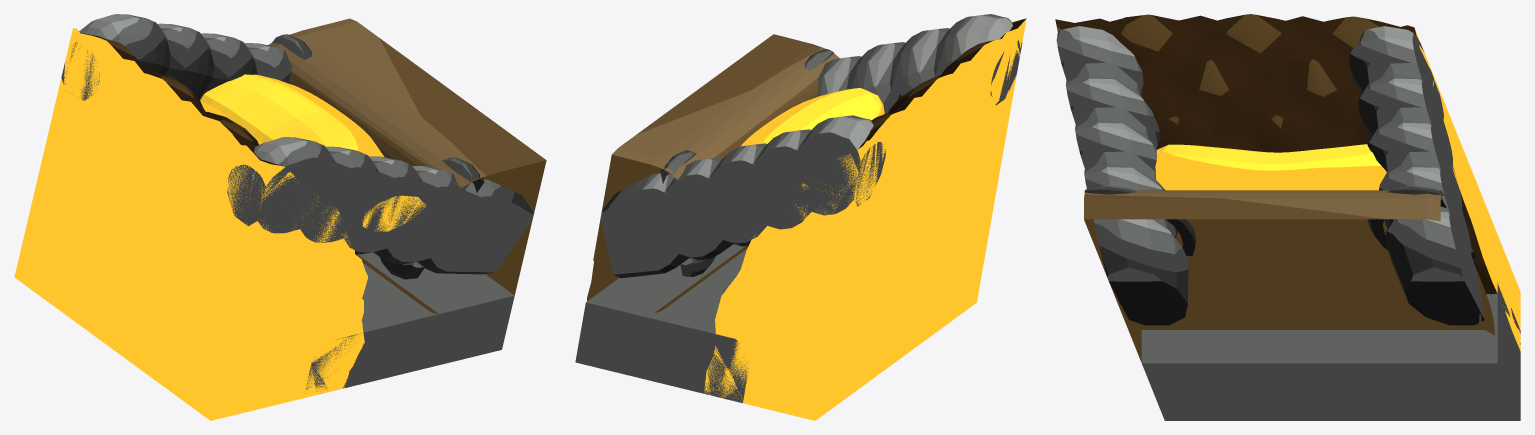
The model's file is pineapple_201.glb.
The picture shows the model from 3 angles, left to right: view 1: azimuth 30°, elevation 25°; view 2: azimuth 150°, elevation 25°; view 3: azimuth 270°, elevation 25°; orthographic projection. The views are drawn at different scales.
Parts seen in each view (by area): view 1: pineapple_201; view 2: pineapple_201; view 3: pineapple_201.
Part boxes in pixels (x1=…): pineapple_201: x1=14, y1=14, x2=546, y2=420; pineapple_201: x1=575, y1=14, x2=1026, y2=420; pineapple_201: x1=1055, y1=14, x2=1520, y2=420.
Bounding box in the file's own units: 24 × 24.14 × 36.62.
